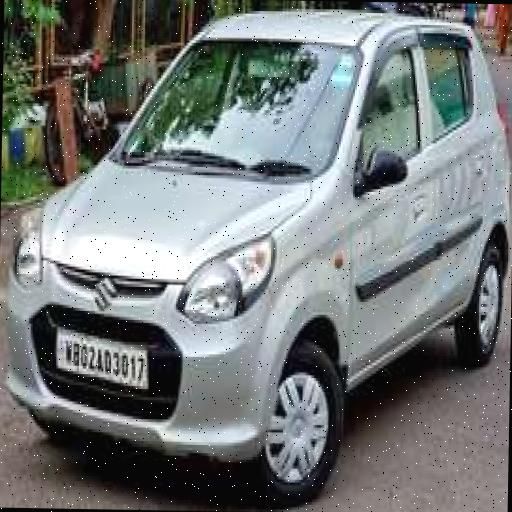license_plate`: (52, 324, 147, 389)
